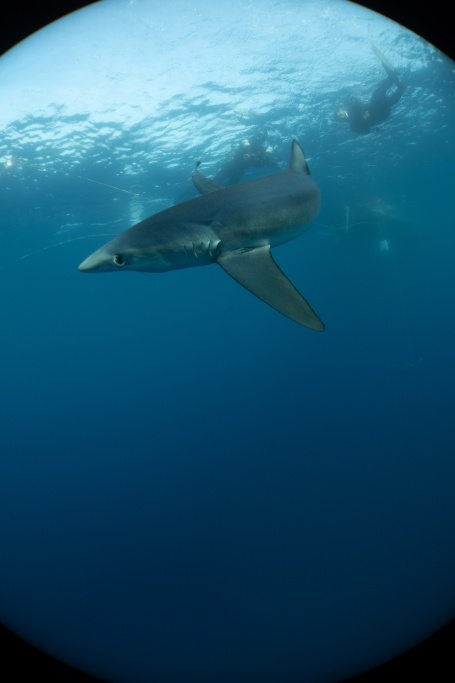Azul: (79, 129, 366, 346)
